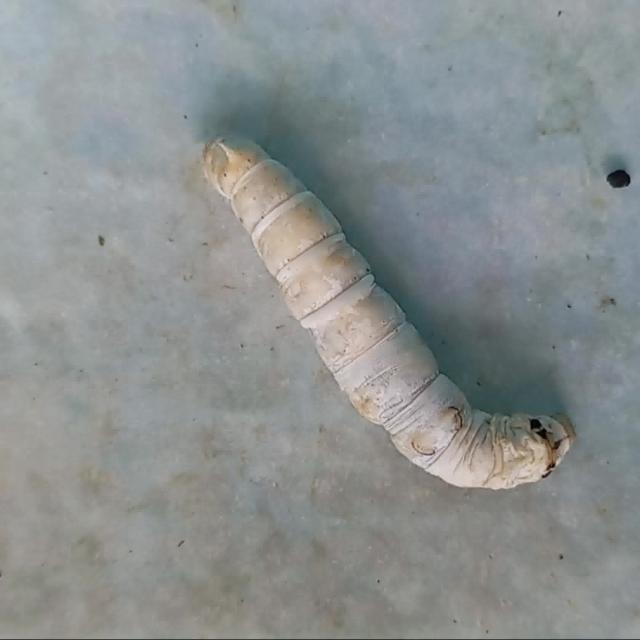Grasserie: (198, 122, 590, 517)
